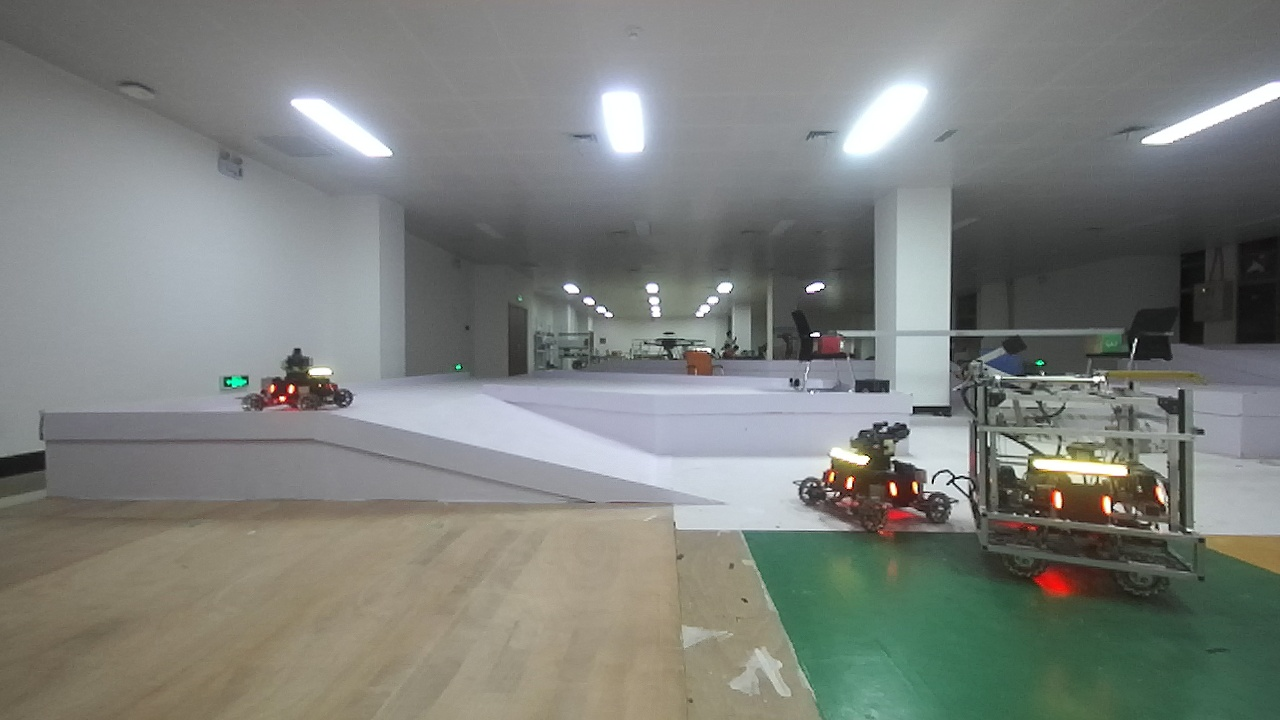car: (965, 362, 1238, 618), (791, 421, 952, 543), (246, 347, 378, 421)
